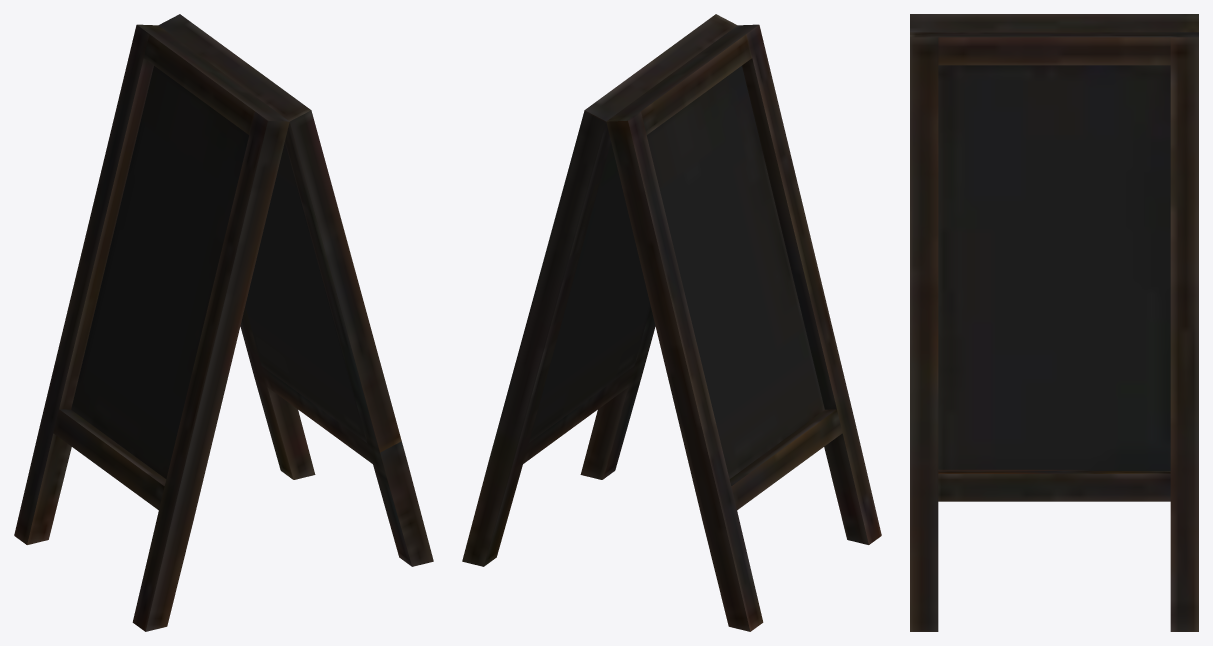
File: contact_sign.glb
3 views of the same model, side by side, from view 1: azimuth 30°, elevation 25°; view 2: azimuth 150°, elevation 25°; view 3: azimuth 270°, elevation 25° (orthographic). The views are drawn at different scales.
Visible parts, largest first — view 1: defaultMaterial; view 2: defaultMaterial; view 3: defaultMaterial.
Boxes of the visible parts, bbox=[...] form: defaultMaterial: bbox=[14, 14, 433, 631]; defaultMaterial: bbox=[462, 14, 881, 631]; defaultMaterial: bbox=[910, 14, 1198, 631].
Size of the model in its own units: 71.15 by 113 by 56.18.
Materials: 1 (1 with a texture image).
